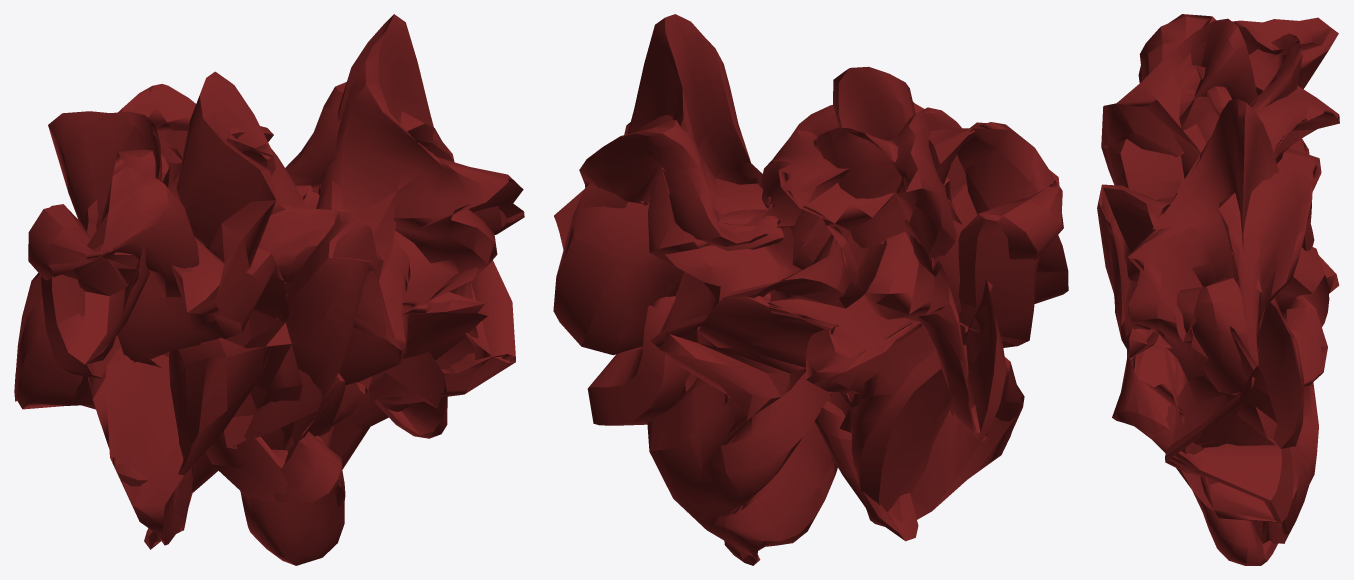
File: 80 heart.obj
3 views of the same model, side by side, from view 1: azimuth 30°, elevation 25°; view 2: azimuth 150°, elevation 25°; view 3: azimuth 270°, elevation 25° (orthographic). The views are drawn at different scales.
Visible parts, largest first — view 1: 000_Heart; view 2: 000_Heart; view 3: 000_Heart.
Boxes of the visible parts, x1,y1,x2,y2 form: 000_Heart: (14,14,524,565); 000_Heart: (553,14,1068,565); 000_Heart: (1097,14,1339,565).
Size of the model in its own units: 308 by 320 by 140.
